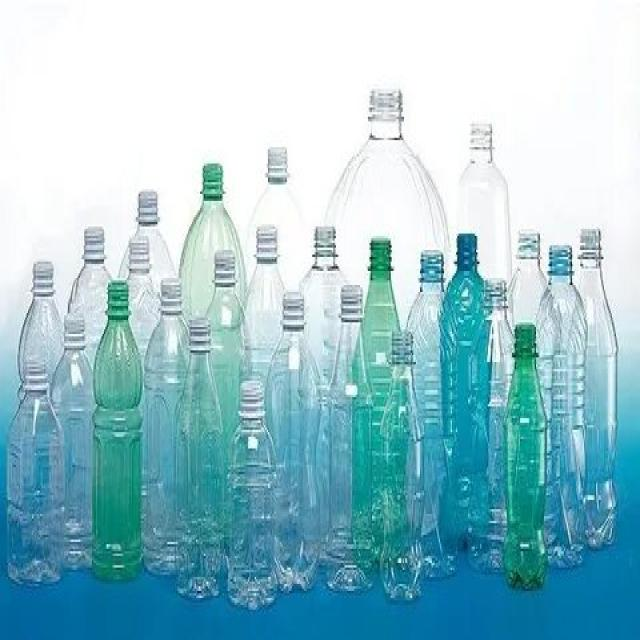green: (92, 282, 143, 579), (502, 327, 548, 592), (179, 160, 245, 255), (364, 236, 401, 330)
